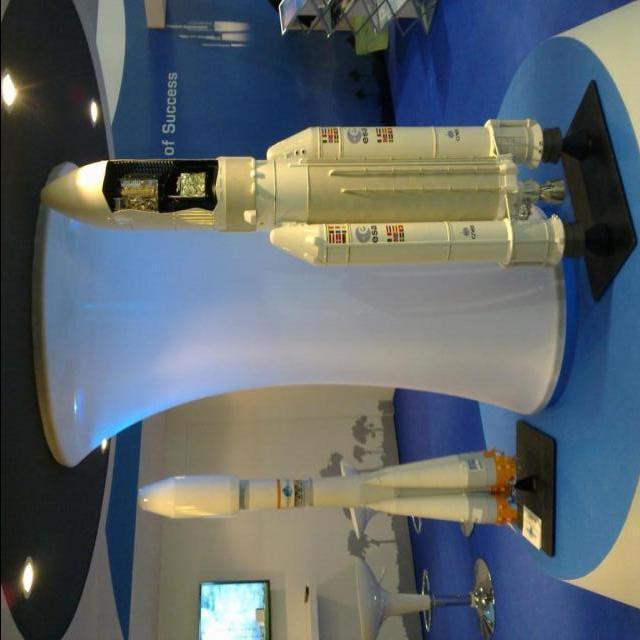missile: (41, 116, 616, 293), (131, 442, 586, 548)
